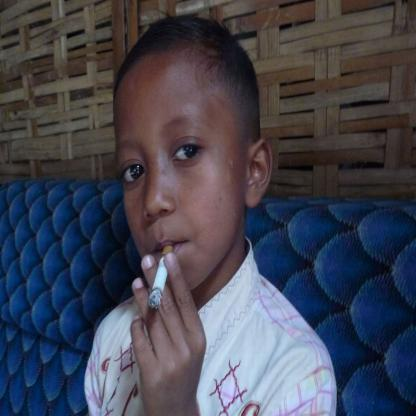cigarette: (148, 241, 176, 314)
person: (68, 10, 341, 416)
